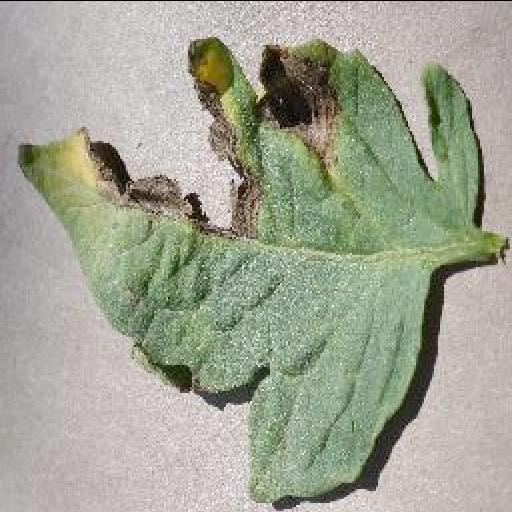disease_tomato: (14, 34, 482, 504)
